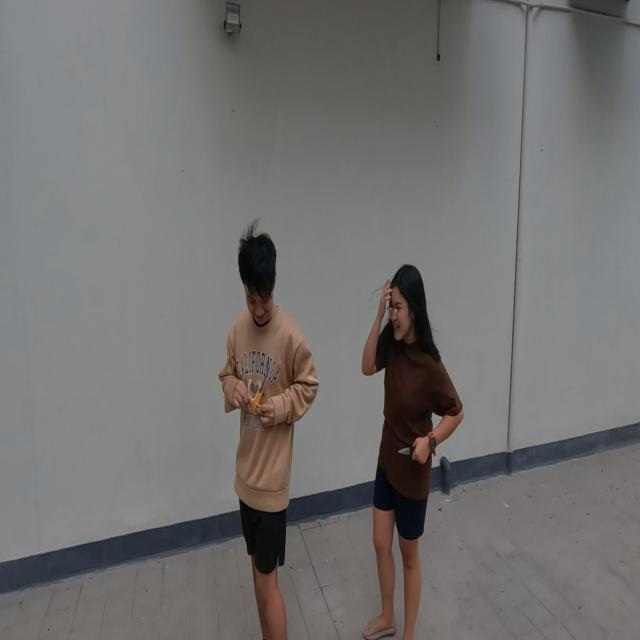scissor: (248, 368, 270, 414)
